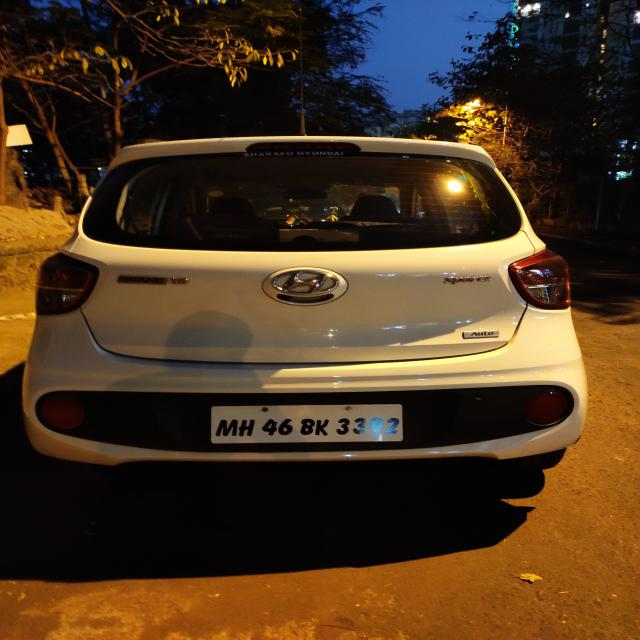Number-Plate: (214, 401, 398, 444)
